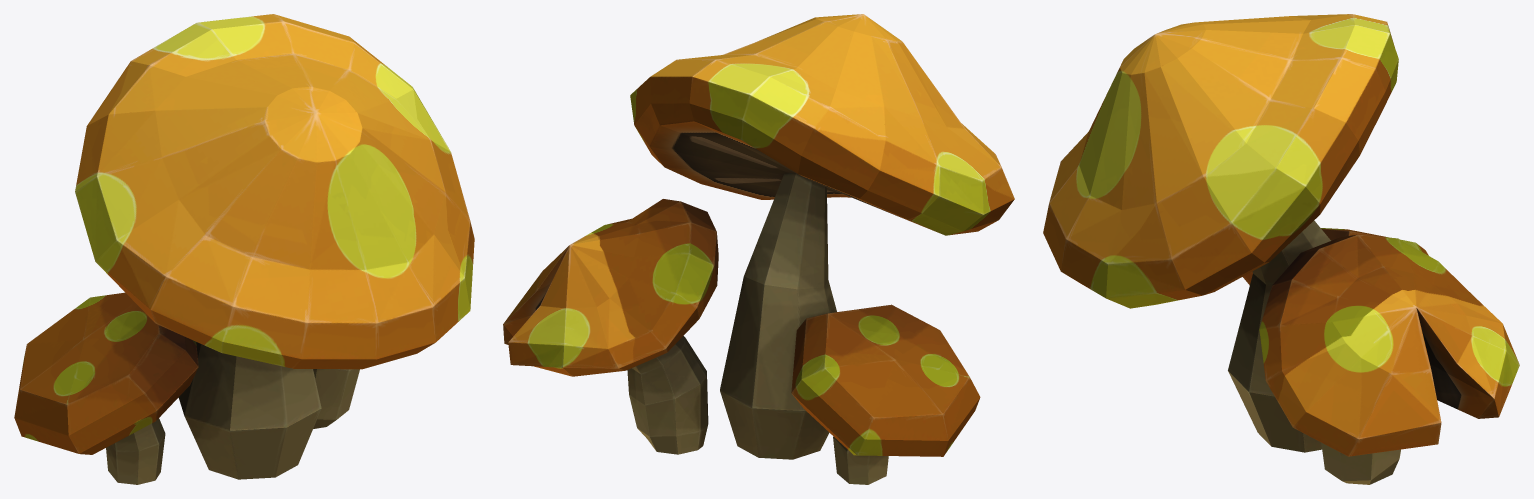
The model's file is mogu.fbx.
The picture shows the model from 3 angles, left to right: view 1: azimuth 30°, elevation 25°; view 2: azimuth 150°, elevation 25°; view 3: azimuth 270°, elevation 25°; orthographic projection. The views are drawn at different scales.
Visible parts, largest first — view 1: ww1:headusOBJexport; view 2: ww1:headusOBJexport; view 3: ww1:headusOBJexport.
Part boxes in pixels (x1,y1,x2,y2): ww1:headusOBJexport: (14, 14, 474, 484); ww1:headusOBJexport: (503, 14, 1014, 484); ww1:headusOBJexport: (1043, 14, 1519, 484).
Size of the model in its own units: 31.65 by 27.91 by 30.03.
